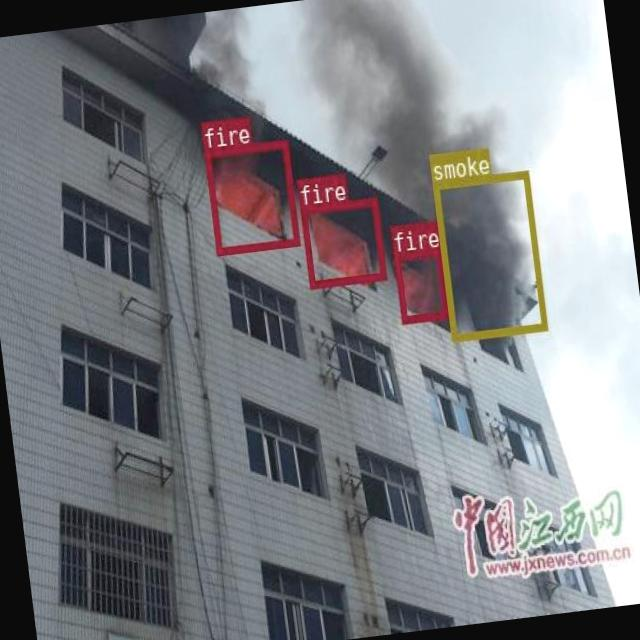fire: (203, 139, 298, 254), (299, 196, 385, 286), (392, 246, 448, 322)
smoke: (432, 169, 547, 340)
